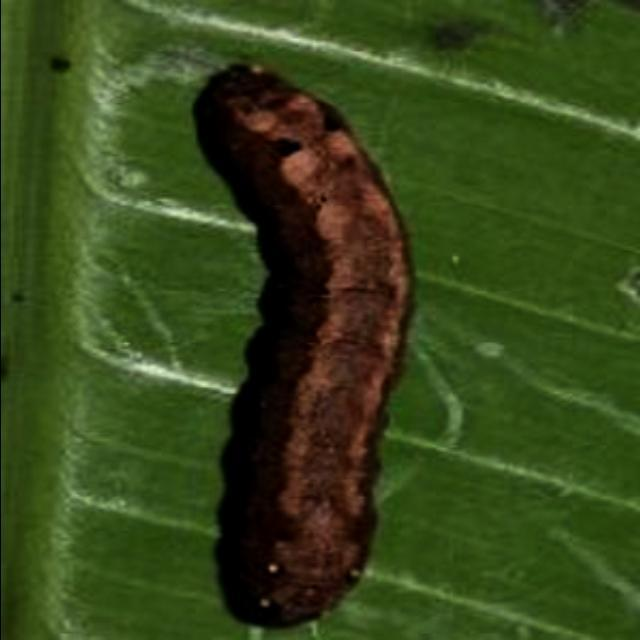Tobacco cutworm: (82, 34, 468, 640)
